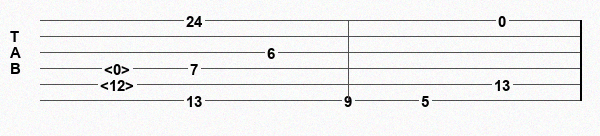0: (498, 13, 510, 28)
13: (186, 93, 206, 108), (494, 77, 514, 92)
24: (186, 13, 206, 28)
5: (421, 93, 433, 108)
6: (267, 45, 279, 60)
7: (190, 61, 202, 76)
9: (344, 93, 356, 108)
harmonic: (100, 77, 138, 92), (104, 61, 134, 76)
